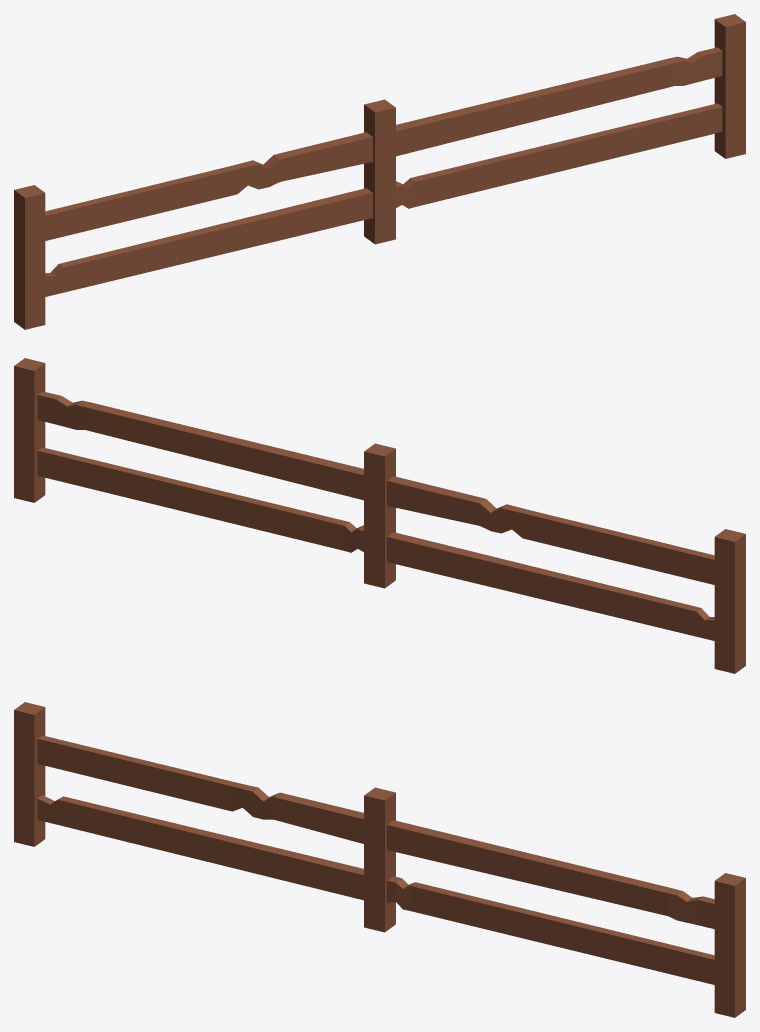
File: fence.glb
3 views of the same model, one above another, from view 1: azimuth 30°, elevation 25°; view 2: azimuth 150°, elevation 25°; view 3: azimuth 330°, elevation 25° (orthographic).
Parts seen in each view (by area): view 1: Fence; view 2: Fence; view 3: Fence.
Part boxes in pixels (bbox=[...]): Fence: bbox=[14, 14, 745, 329]; Fence: bbox=[14, 358, 745, 673]; Fence: bbox=[14, 702, 745, 1017].
Bounding box in the file's own units: 6.27 × 1.1 × 0.1655.
